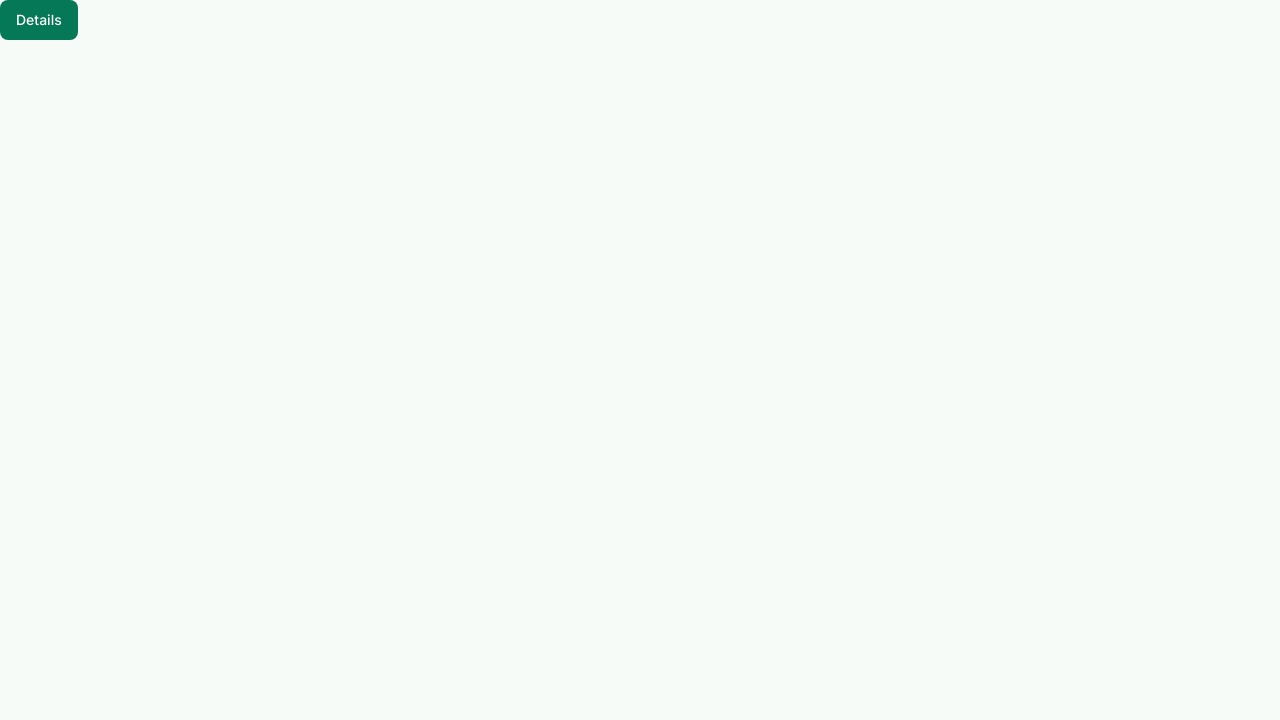
Test case: Sheet › renders a detail drawer with title and body
Click the button "Details": (39,20) [0,0,78,40]
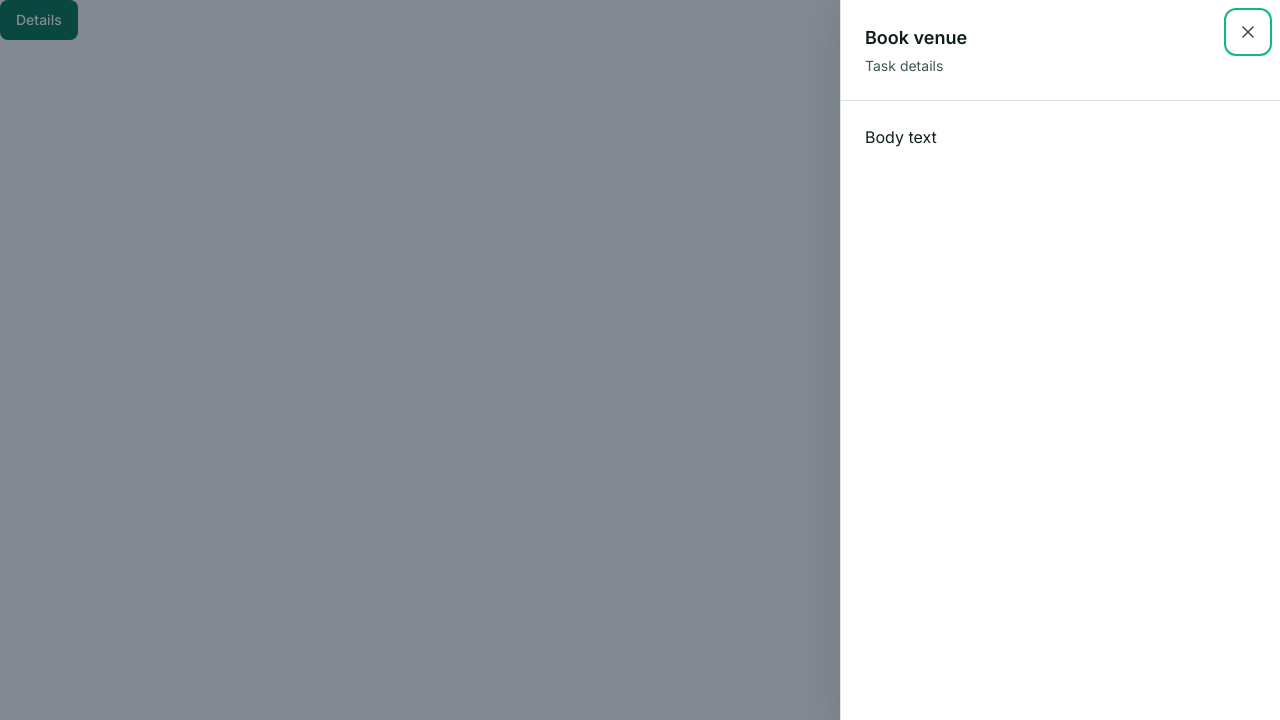
Check: the text "Body text" is shown, box [865,127,937,147]
